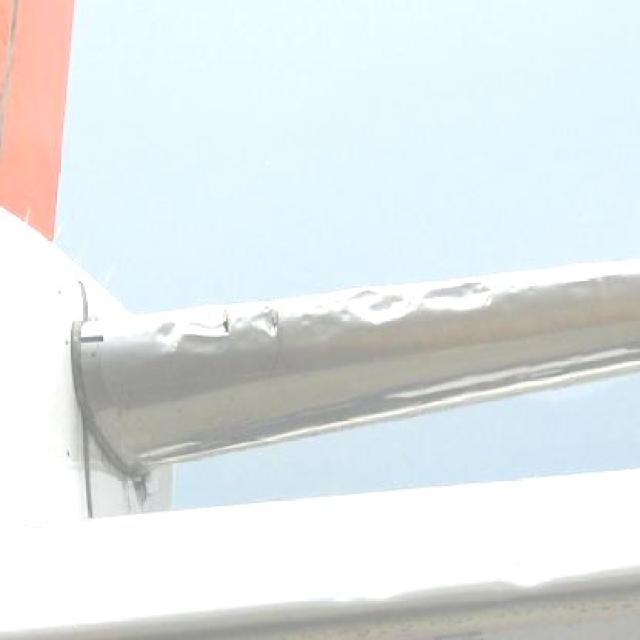dent: (422, 281, 502, 317), (344, 286, 412, 323), (248, 309, 280, 340), (156, 318, 182, 349), (296, 311, 318, 331)
